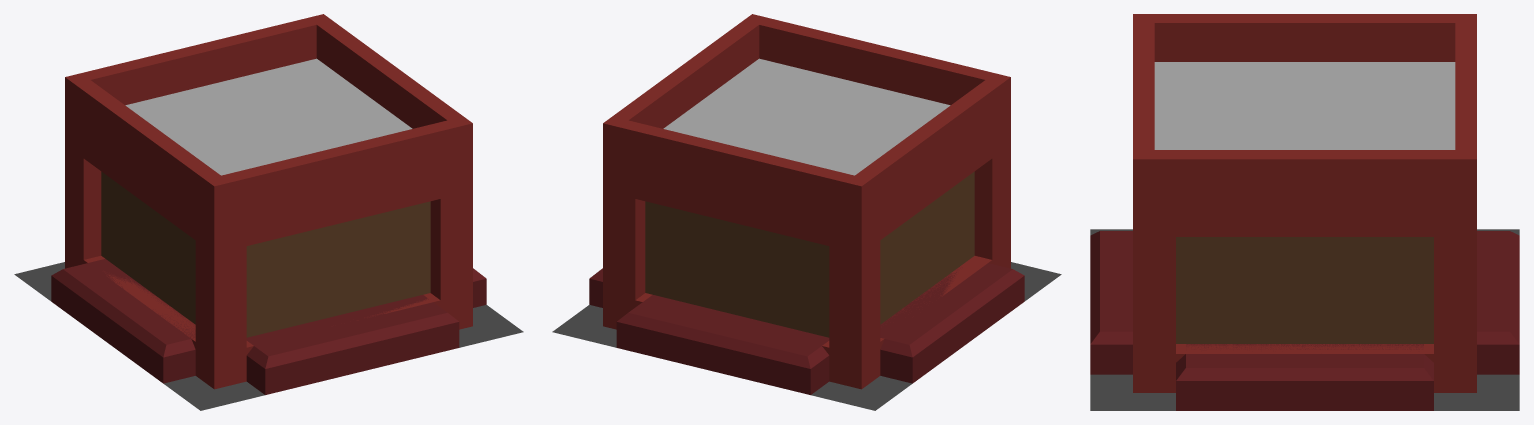
File: paths.fbx
3 renders of one model, left to right at view 1: azimuth 30°, elevation 25°; view 2: azimuth 150°, elevation 25°; view 3: azimuth 270°, elevation 25°, orthographic. The views are drawn at different scales.
Parts seen in each view (by area): view 1: Platform.002, Platform, Path_Cross, Path_End, Path_Straight; view 2: Platform, Platform.002, Path_Cross, Path_End, Path_Straight, Path_T-Juction; view 3: Platform, Platform.002, Path_Cross, Path_Straight.
Part boxes in pixels (<box>): Platform.002: <box>14,15,523,410</box>; Platform: <box>17,14,472,407</box>; Path_Cross: <box>16,262,505,397</box>; Path_End: <box>65,259,194,356</box>; Path_Straight: <box>253,308,445,355</box>; Platform: <box>569,14,1060,410</box>; Platform.002: <box>552,22,1041,395</box>; Path_Cross: <box>566,262,1061,410</box>; Path_End: <box>880,263,1011,344</box>; Path_Straight: <box>630,305,829,368</box>; Path_T-Juction: <box>630,295,781,326</box>; Platform: <box>1090,14,1519,410</box>; Platform.002: <box>1090,14,1519,410</box>; Path_Cross: <box>1090,229,1519,410</box>; Path_Straight: <box>1091,231,1509,344</box>.
Bounding box in the file's own units: 200 × 120 × 200.
